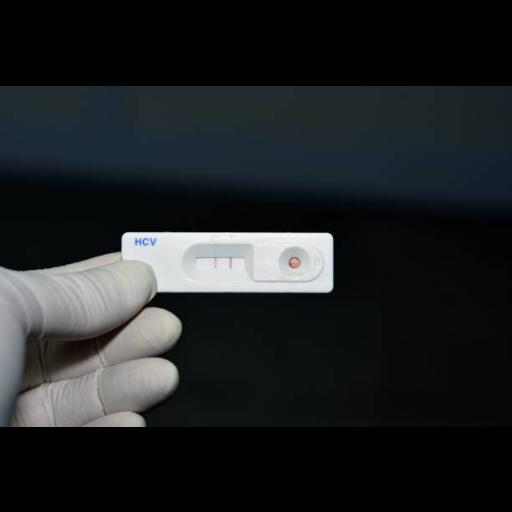Pos: (122, 230, 332, 290)
